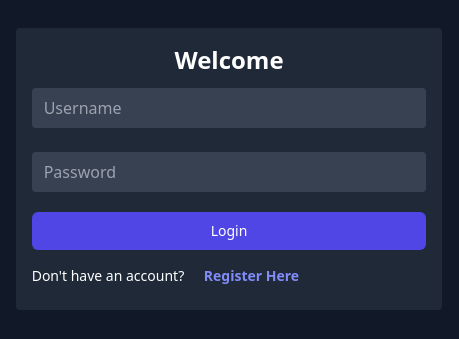
Login › displays error message for incorrect username or password
Type "testuser" into the field with placeholder "Username" at coordinates (229, 108), box x1=32 y1=88 x2=426 y2=128
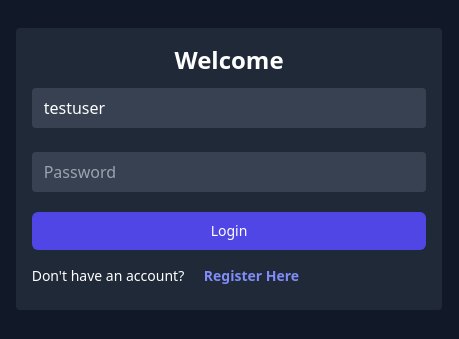
Type "testpassword" into the password field with placeholder "Password" at coordinates (229, 172), box x1=32 y1=152 x2=426 y2=192
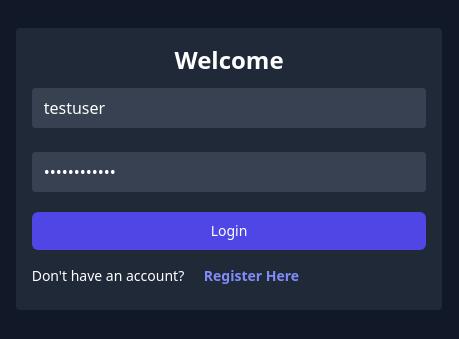
Click the button "Login" at coordinates (229, 231), box x1=32 y1=212 x2=426 y2=250
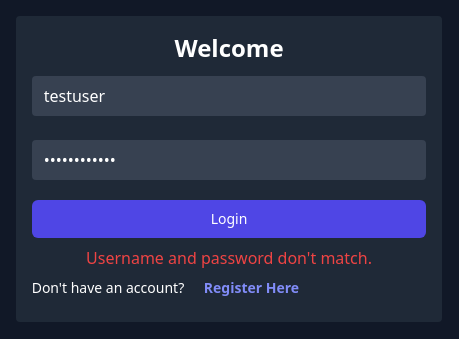
Expected: the text "Username and password don't match." is shown, x1=86 y1=247 x2=372 y2=269
